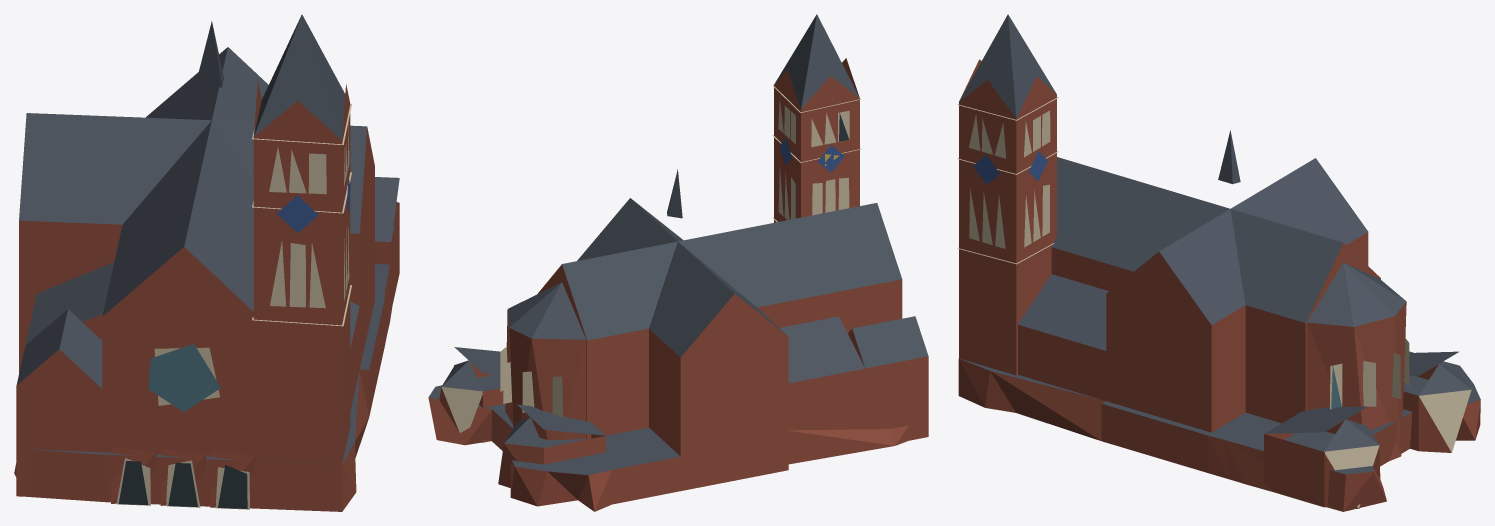
File: boomkerk.lod2.glb
The picture shows the model from 3 angles, left to right: view 1: azimuth 30°, elevation 25°; view 2: azimuth 150°, elevation 25°; view 3: azimuth 270°, elevation 25°; orthographic projection. The views are drawn at different scales.
Visible parts, largest first — view 1: lod2; view 2: lod2; view 3: lod2.
Part boxes in pixels (x1,y1,x2,y2): lod2: (14,14,399,511); lod2: (428,14,928,511); lod2: (957,14,1480,511).
Size of the model in its own units: 49.03 by 42.3 by 53.05.
